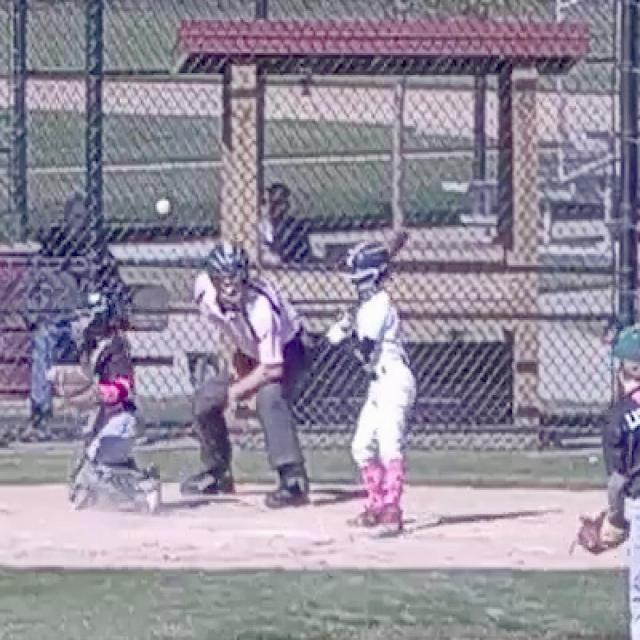baseball: (157, 200, 169, 213)
